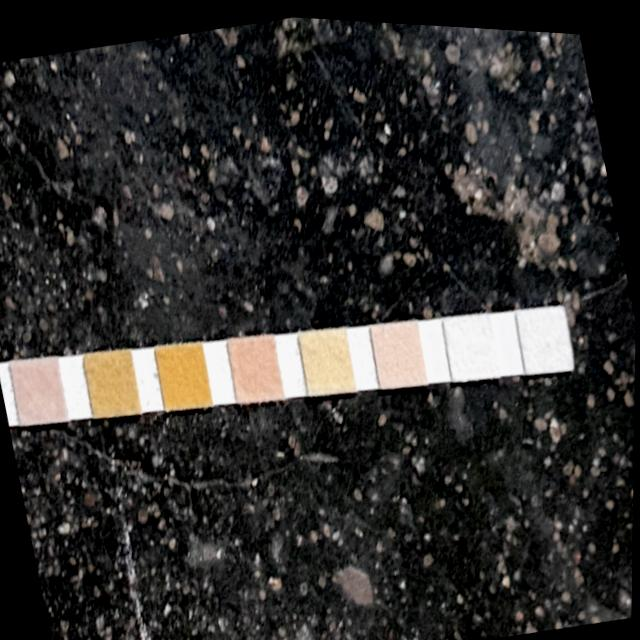Blood: (157, 339, 212, 406)
Ketone: (12, 354, 68, 423)
Leukocytes: (516, 298, 574, 366)
Nitrite: (444, 306, 499, 374)
Protein: (300, 323, 354, 391)
SpGravity: (84, 346, 142, 416)
Urobilinogen: (371, 314, 427, 382)
pH: (228, 329, 283, 399)
